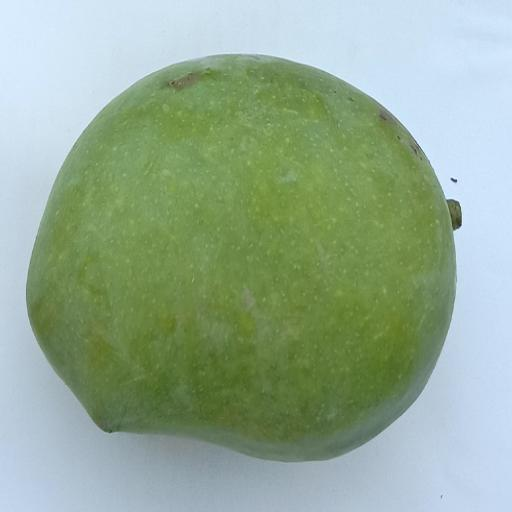mango-unripe: (1, 52, 507, 490)
